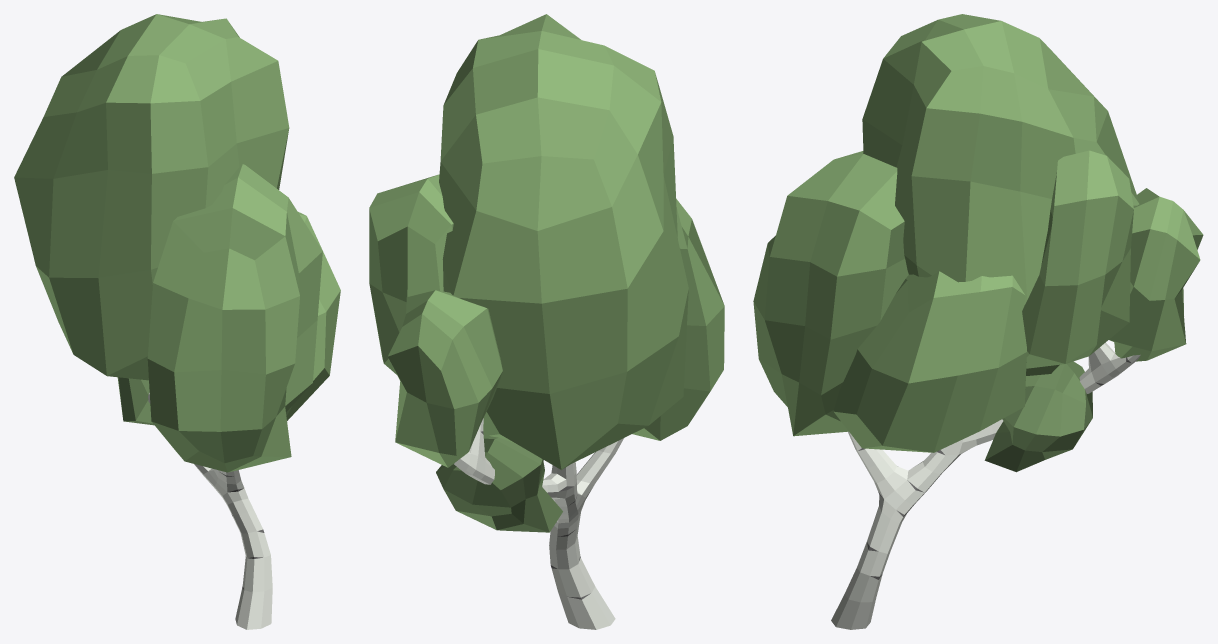
The model's file is birch_1.glb.
The picture shows the model from 3 angles, left to right: view 1: azimuth 30°, elevation 25°; view 2: azimuth 150°, elevation 25°; view 3: azimuth 270°, elevation 25°; orthographic projection. The views are drawn at different scales.
Visible parts, largest first — view 1: BirchTree_1; view 2: BirchTree_1; view 3: BirchTree_1.
Boxes of the visible parts, x1=… form: BirchTree_1: x1=14, y1=14, x2=340, y2=629; BirchTree_1: x1=369, y1=14, x2=724, y2=629; BirchTree_1: x1=753, y1=14, x2=1203, y2=629.
Bounding box in the file's own units: 1.7 × 3.57 × 2.48.
